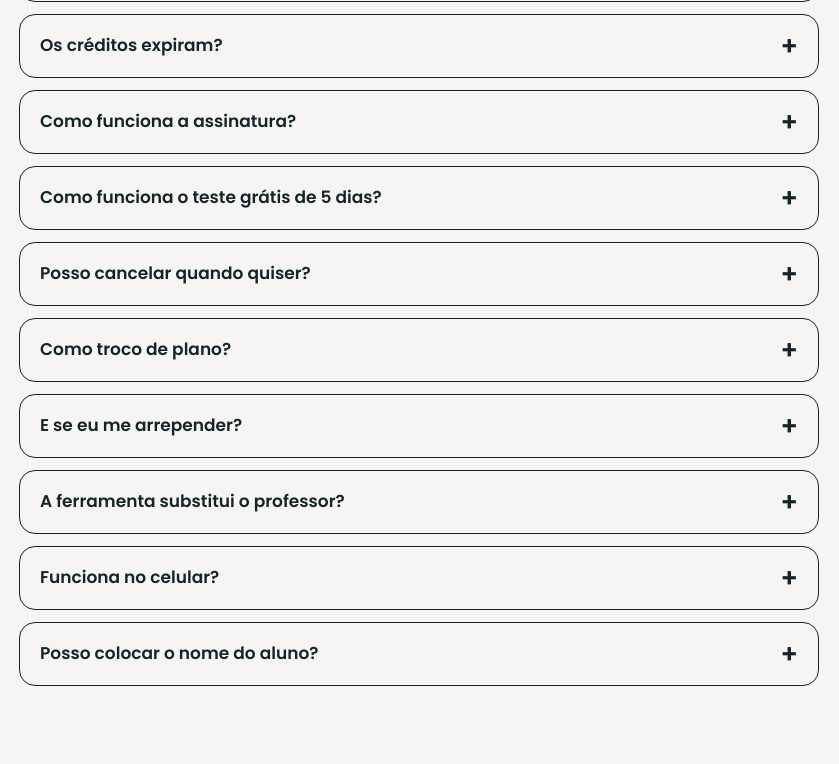
Test: FaqSection (subscription) › answers the regret question with the self-service refund of the last charge
The image size is (839, 764).
(page scrolled)
Click the button "E se eu me arrepender? +". click: (141, 425)
box: [20,395,818,457]
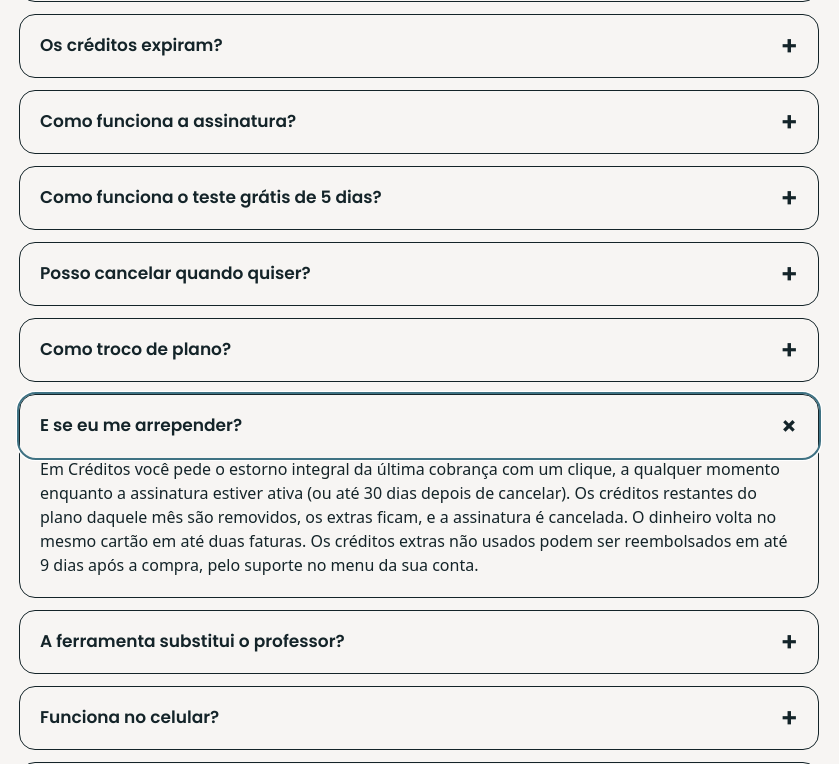
Check: the text "em até duas faturas" is shown, box [40,458,787,576]
